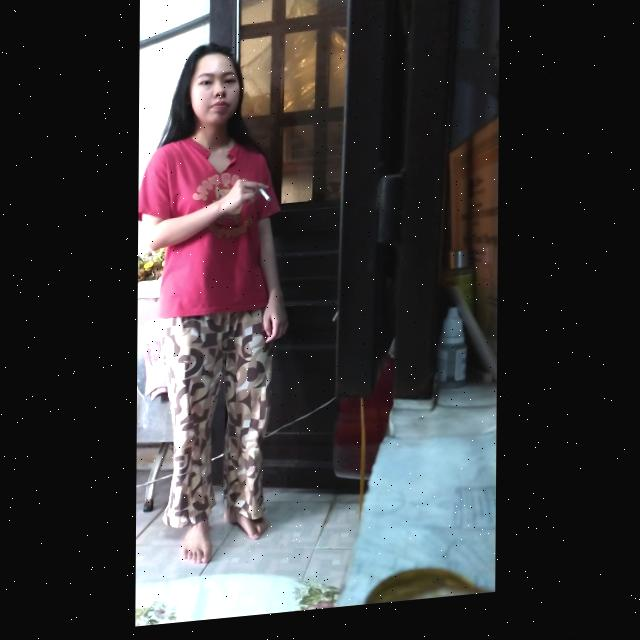cigarette: (259, 191, 271, 208)
